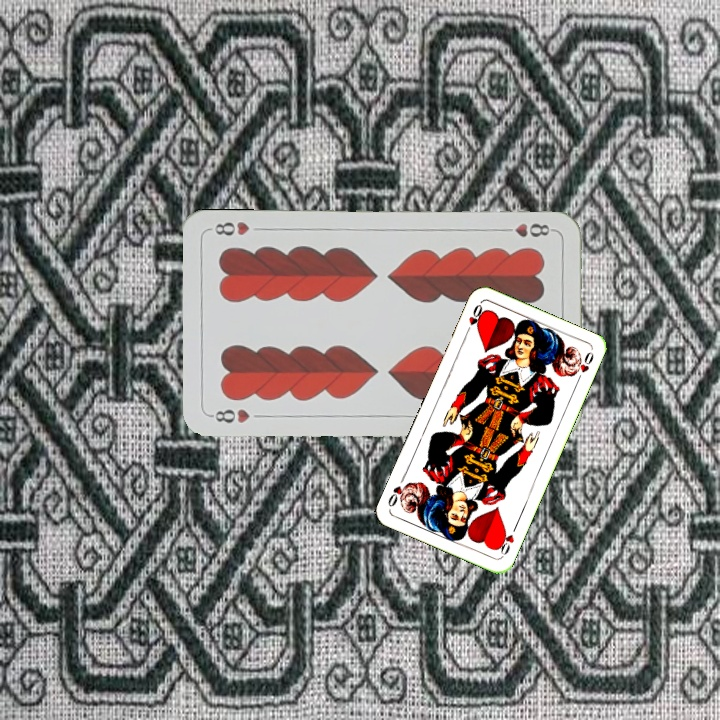H8: (498, 220, 557, 240), (207, 404, 252, 425)
HO: (493, 521, 520, 559), (461, 300, 487, 338)
